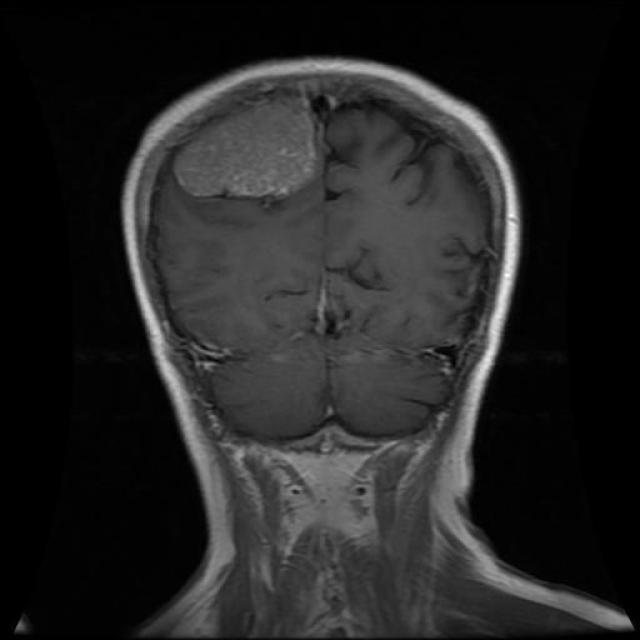meningioma: (171, 95, 322, 198)
